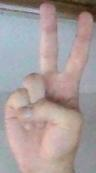V: (1, 1, 96, 173)
